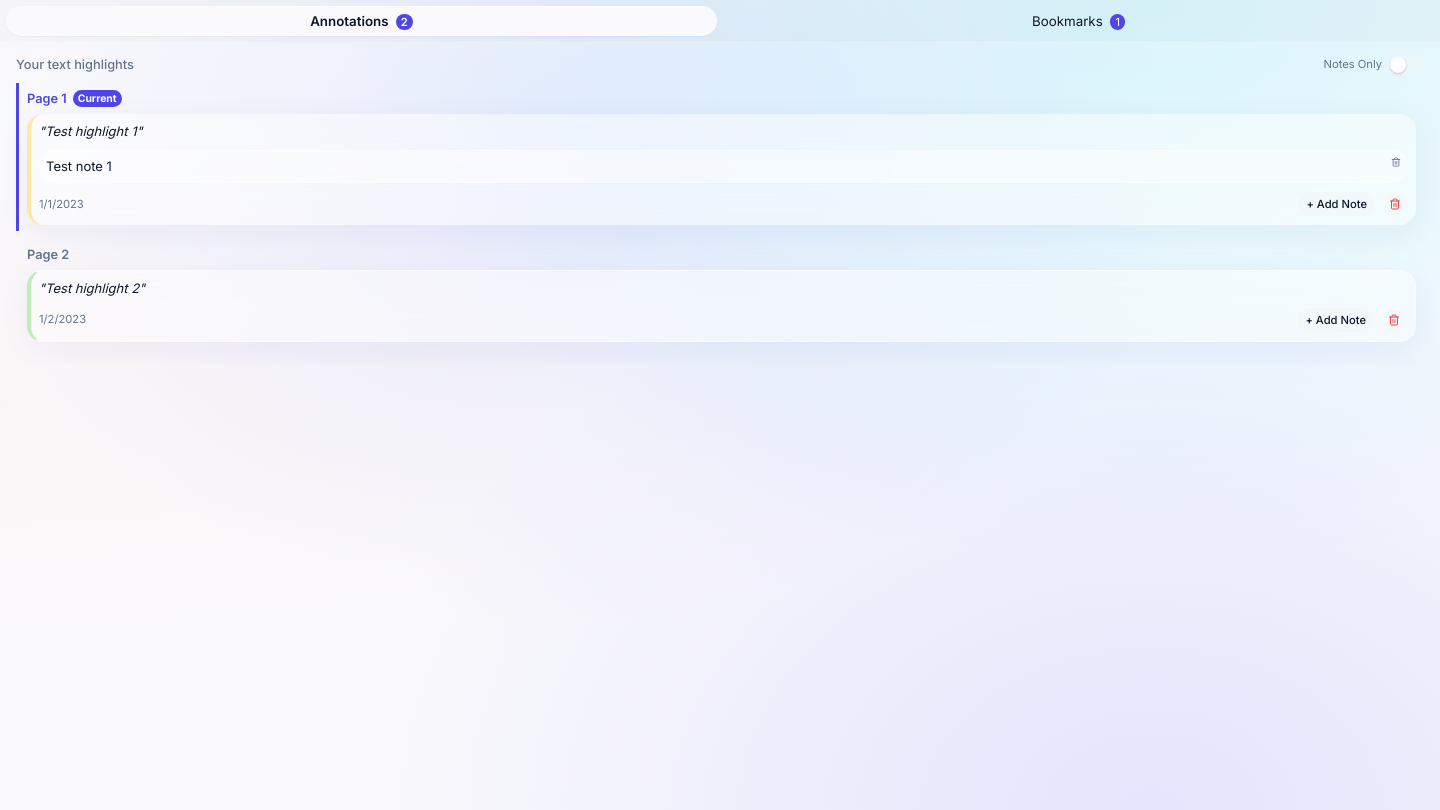
it: NoteSidebar component › can delete a note with two-step confirmation
Expected: the text "Test note 1" is shown, x1=46 y1=158 x2=112 y2=174
// First click: triggers "Delete?" state
Click the button named "Delete Note" at (1396, 162), box x1=1389 y1=155 x2=1403 y2=169
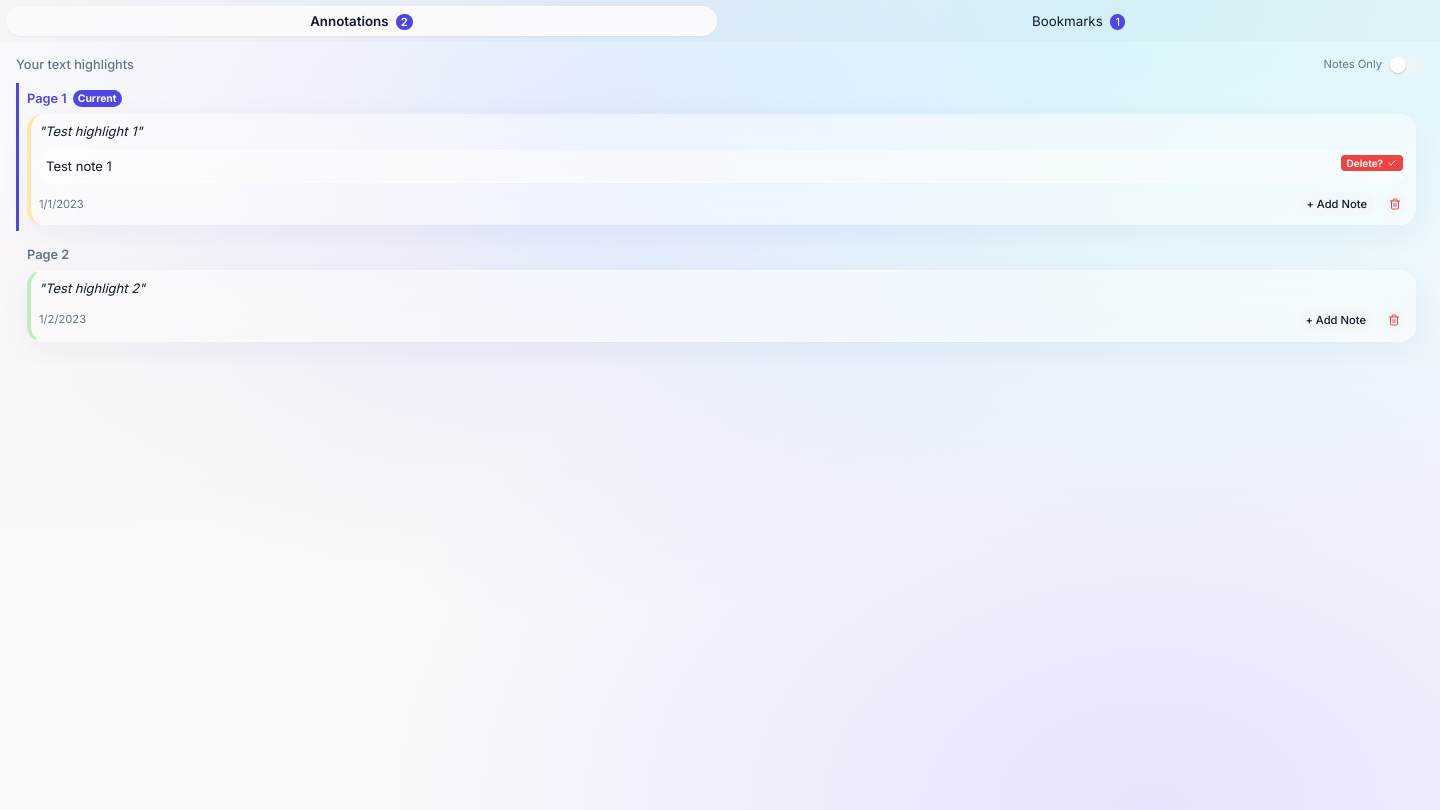
Expected: the text "Delete?" is shown, x1=1346 y1=157 x2=1383 y2=169
// Second click: performs deletion
Click the button titled "Confirm Delete" at (1372, 163), box x1=1340 y1=155 x2=1403 y2=171
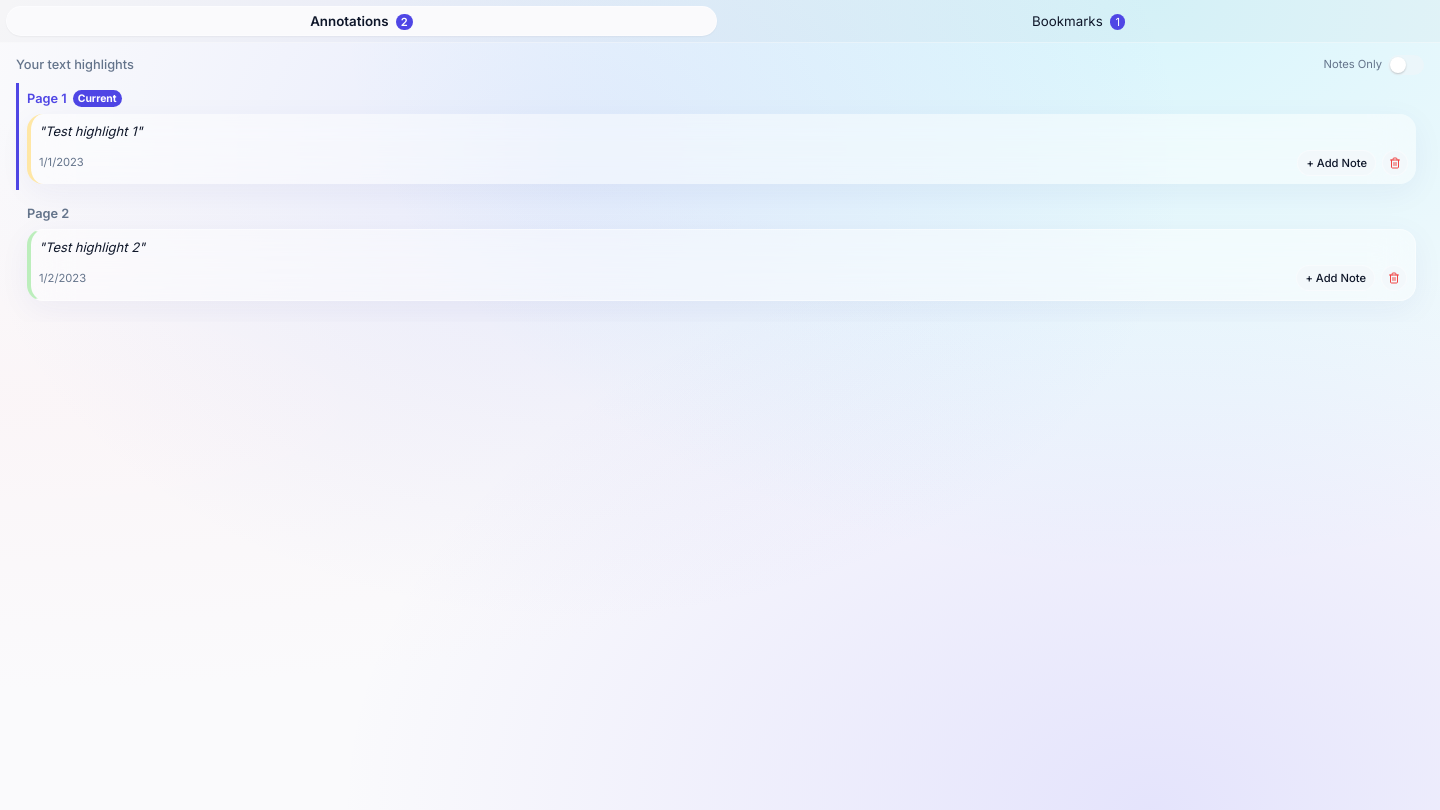
Expected: the text "Test note 1" is gone
